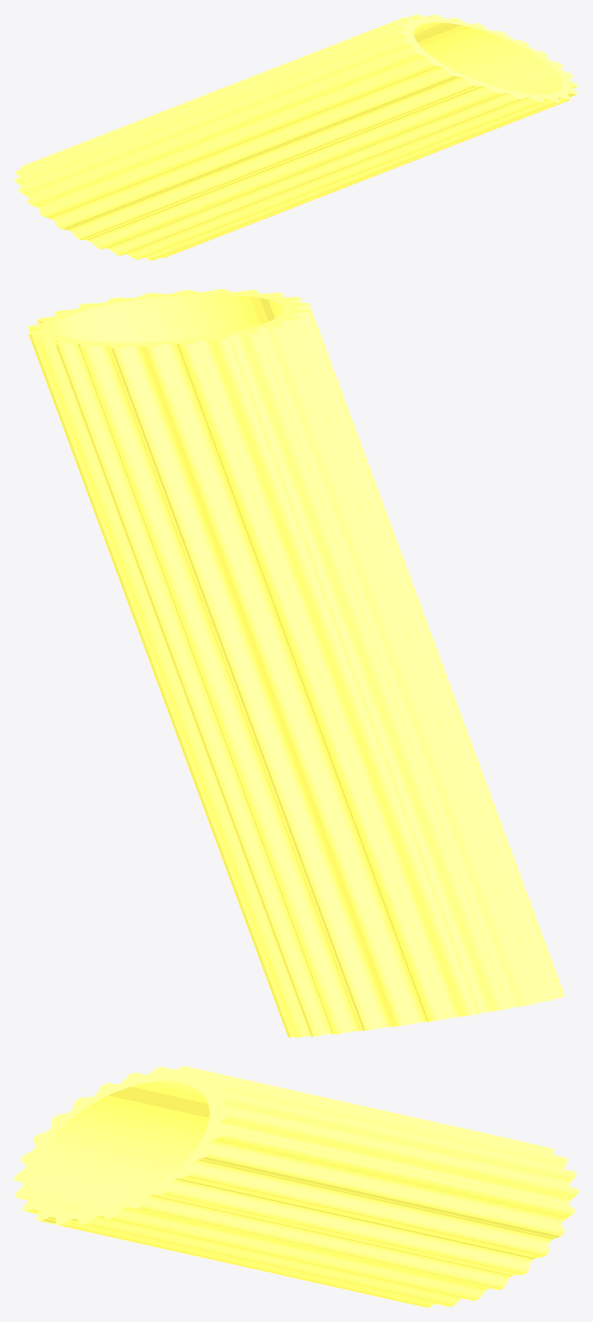
File: Penne.003.gltf
3 views of the same model, one above another, from view 1: azimuth 30°, elevation 25°; view 2: azimuth 150°, elevation 25°; view 3: azimuth 270°, elevation 25° (orthographic). The views are drawn at different scales.
Visible parts, largest first — view 1: Penne.003; view 2: Penne.003; view 3: Penne.003.
Part boxes in pixels (x1=…): Penne.003: x1=14, y1=14, x2=578, y2=260; Penne.003: x1=28, y1=289, x2=564, y2=1037; Penne.003: x1=14, y1=1066, x2=578, y2=1307.
Bounding box in the file's own units: 2.86 × 1.7 × 2.63.
